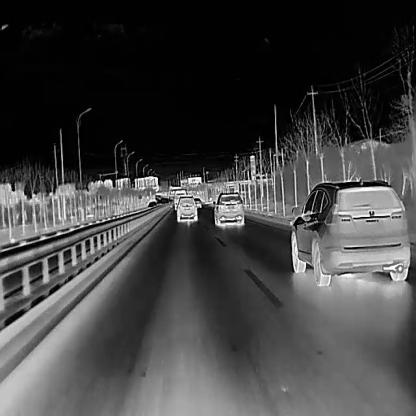bus: (173, 188, 186, 210)
car: (288, 176, 409, 286), (211, 190, 244, 226), (173, 194, 197, 223), (192, 197, 201, 208)
